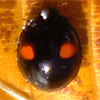Two_spots: (16, 7, 81, 91)
